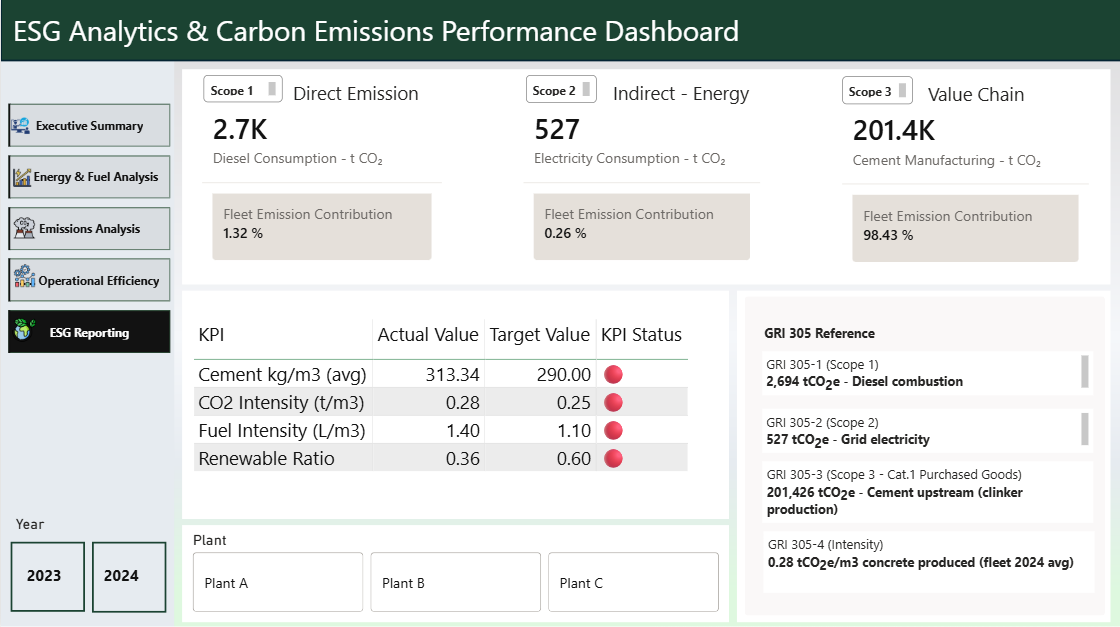

The page's visual inventory and layout, read from the dashboard file:
{"tool":"powerbi","page":{"name":"ESG Reporting","canvas":[1280,720],"ordinal":4},"visuals":[{"type":"group","id":"g1","title":"Group 3","box":[944.1,86.4,317,241.5],"z":0},{"type":"cardVisual","fields":{"Data":["Sum(emissions3.Cement_CO2_tons)"]},"box":[944.1,90.4,317,237.5],"z":0,"group":"g1"},{"type":"image","box":[11,193.4,26.1,20.6],"z":0,"group":"g9"},{"type":"textbox","box":[869.6,402,378.2,50.2],"z":0,"group":"g5"},{"type":"group","id":"g2","title":"Group 4","box":[212.7,85.8,308.7,240.8],"z":1000},{"type":"cardVisual","fields":{"Data":["Sum(emissions3.Diesel_CO2_tons)"]},"box":[212.7,89.7,308.7,236.9],"z":1000,"group":"g2"},{"type":"image","box":[13.7,240.1,24.7,41.2],"z":1000,"group":"g9"},{"type":"shape","box":[849.4,338.9,411.7,365],"z":1000,"group":"g4"},{"type":"textbox","box":[869.6,467.1,378.2,50.2],"z":1000,"group":"g5"},{"type":"group","id":"g3","title":"Group 5","box":[580.4,85.8,305.9,240.8],"z":2000},{"type":"cardVisual","fields":{"Data":["Sum(emissions3.Electricity_CO2_tons)"]},"box":[580.4,89.7,305.9,236.9],"z":2000,"group":"g3"},{"type":"image","box":[12.4,297.7,27.4,35.7],"z":2000,"group":"g9"},{"type":"textbox","box":[869.6,526.8,378.2,70.6],"z":2000,"group":"g5"},{"type":"group","id":"g4","title":"Group 6","box":[849.4,338.9,411.7,365],"z":3000},{"type":"image","box":[12.4,359.5,27.4,37],"z":3000,"group":"g9"},{"type":"group","id":"g5","title":"Group 1","box":[867,365.7,381.8,311.8],"z":3000,"group":"g4"},{"type":"textbox","box":[870.7,607,378.2,70.4],"z":3000,"group":"g5"},{"type":"image","box":[11,126.2,22,35.7],"z":4000,"group":"g9"},{"type":"tableEx","fields":{"Values":["KPI Index.KPI","Dax.Display Value","Dax.Display Target","Dax.KPI Status"]},"box":[214.1,359.5,613.4,197.6],"z":4000},{"type":"textbox","box":[867,365.7,380.9,32],"z":4000,"group":"g5"},{"type":"advancedSlicerVisual","fields":{"Values":["emissions3.Plant"]},"box":[214.1,606.5,613.4,97.4],"z":5000},{"type":"advancedSlicerVisual","fields":{"Values":["DateTable.Year"]},"box":[11,588.7,178.4,118],"z":6000},{"type":"textbox","box":[8.2,6.9,860.4,65.9],"z":7000},{"type":"textbox","box":[232,85.8,90.6,31.6],"z":7000,"group":"g7"},{"type":"textbox","box":[599.7,86.4,80.9,32.1],"z":7000,"group":"g8"},{"type":"textbox","box":[960.6,86.4,81,32],"z":7000,"group":"g6"},{"type":"textbox","box":[329.4,85.8,172.9,43.9],"z":8000,"group":"g7"},{"type":"textbox","box":[694.4,85.8,179.8,43.9],"z":8000,"group":"g8"},{"type":"textbox","box":[1053.9,86.4,171.5,43.9],"z":8000,"group":"g6"},{"type":"pageNavigator","box":[8.2,118,185.2,286.8],"z":8000},{"type":"group","id":"g6","title":"Group 2","box":[960.6,86.4,264.8,43.9],"z":8001,"group":"g1"},{"type":"group","id":"g7","title":"Group 2","box":[232,85.8,270.3,43.9],"z":8002,"group":"g2"},{"type":"group","id":"g8","title":"Group 2","box":[599.7,85.8,274.4,43.9],"z":8003,"group":"g3"},{"type":"group","id":"g9","title":"Group 1","box":[11,126.2,28.8,270.3],"z":9000}]}

Visuals, with their boxes in screenshot pixels (x1, y1, x2, y2), scaled from the page's 1280x720 canvas onto the 1120x627 screenshot:
"Group 3" group: l=826, t=75, r=1103, b=286
cardVisual - Sum(emissions3.Cement_CO2_tons): l=826, t=79, r=1103, b=286
image: l=10, t=168, r=32, b=186
textbox: l=761, t=350, r=1092, b=394
"Group 4" group: l=186, t=75, r=456, b=284
cardVisual - Sum(emissions3.Diesel_CO2_tons): l=186, t=78, r=456, b=284
image: l=12, t=209, r=34, b=245
shape: l=743, t=295, r=1103, b=613
textbox: l=761, t=407, r=1092, b=450
"Group 5" group: l=508, t=75, r=776, b=284
cardVisual - Sum(emissions3.Electricity_CO2_tons): l=508, t=78, r=776, b=284
image: l=11, t=259, r=35, b=290
textbox: l=761, t=459, r=1092, b=520
"Group 6" group: l=743, t=295, r=1103, b=613
image: l=11, t=313, r=35, b=345
"Group 1" group: l=759, t=318, r=1093, b=590
textbox: l=762, t=529, r=1093, b=590
image: l=10, t=110, r=29, b=141
tableEx - KPI Index.KPI x Dax.Display Value: l=187, t=313, r=724, b=485
textbox: l=759, t=318, r=1092, b=346
advancedSlicerVisual - emissions3.Plant: l=187, t=528, r=724, b=613
advancedSlicerVisual - DateTable.Year: l=10, t=513, r=166, b=615
textbox: l=7, t=6, r=760, b=63
textbox: l=203, t=75, r=282, b=102
textbox: l=525, t=75, r=596, b=103
textbox: l=841, t=75, r=911, b=103
textbox: l=288, t=75, r=440, b=113
textbox: l=608, t=75, r=765, b=113
textbox: l=922, t=75, r=1072, b=113
pageNavigator: l=7, t=103, r=169, b=353
"Group 2" group: l=841, t=75, r=1072, b=113
"Group 2" group: l=203, t=75, r=440, b=113
"Group 2" group: l=525, t=75, r=765, b=113
"Group 1" group: l=10, t=110, r=35, b=345
